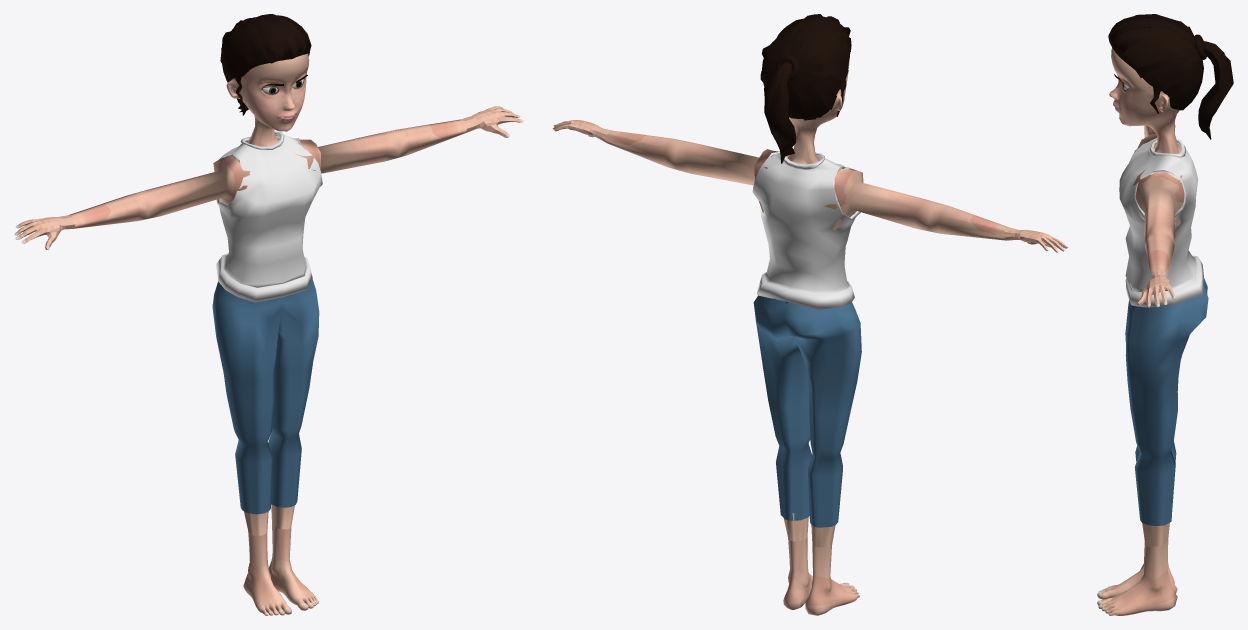
The model's file is update model.fbx.
3 views of the same model, side by side, from view 1: azimuth 30°, elevation 25°; view 2: azimuth 150°, elevation 25°; view 3: azimuth 270°, elevation 25° (orthographic).
Parts seen in each view (by area): view 1: polySurface364, polySurface359, polySurface405, polySurface394, polySurface366, polySurface327, polySurface404, polySurface400; view 2: polySurface364, polySurface359, polySurface327, polySurface405, polySurface394, polySurface404, polySurface400, polySurface366; view 3: polySurface364, polySurface327, polySurface359, polySurface394, polySurface400, polySurface366, polySurface404, polySurface405.
Boxes of the visible parts, left/top/right/bottom form: polySurface364: left=212, top=279, right=319, bottom=514; polySurface359: left=216, top=131, right=322, bottom=302; polySurface405: left=14, top=155, right=250, bottom=249; polySurface394: left=294, top=106, right=523, bottom=173; polySurface366: left=226, top=53, right=309, bottom=146; polySurface327: left=220, top=14, right=311, bottom=115; polySurface404: left=243, top=511, right=291, bottom=615; polySurface400: left=269, top=504, right=318, bottom=610; polySurface364: left=753, top=295, right=861, bottom=527; polySurface359: left=752, top=148, right=860, bottom=309; polySurface327: left=760, top=14, right=851, bottom=163; polySurface405: left=823, top=167, right=1068, bottom=252; polySurface394: left=552, top=120, right=789, bottom=212; polySurface404: left=805, top=525, right=859, bottom=615; polySurface400: left=783, top=513, right=812, bottom=609; polySurface366: left=787, top=62, right=849, bottom=164; polySurface364: left=1125, top=278, right=1208, bottom=525; polySurface327: left=1108, top=14, right=1233, bottom=139; polySurface359: left=1119, top=138, right=1203, bottom=307; polySurface394: left=1133, top=169, right=1184, bottom=307; polySurface400: left=1097, top=522, right=1177, bottom=615; polySurface366: left=1109, top=47, right=1181, bottom=153; polySurface404: left=1097, top=542, right=1177, bottom=599; polySurface405: left=1137, top=123, right=1181, bottom=150.
Size of the model in its own units: 6.1 by 6.66 by 1.41.
